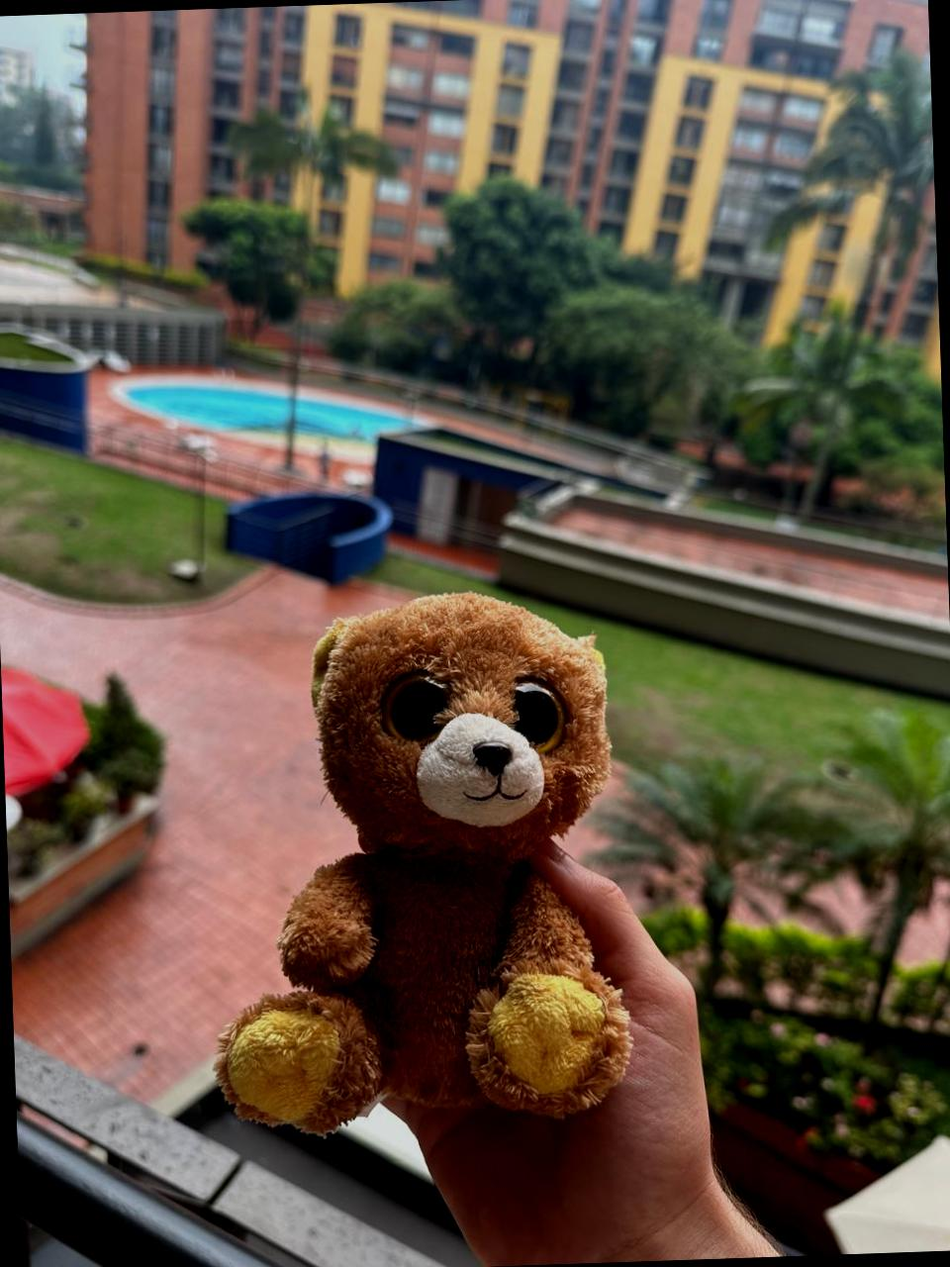peluche_sebastian: (202, 586, 633, 1138)
